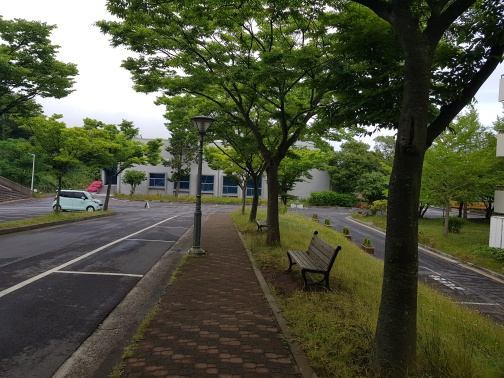College of Social Sciences: (100, 135, 333, 205)
